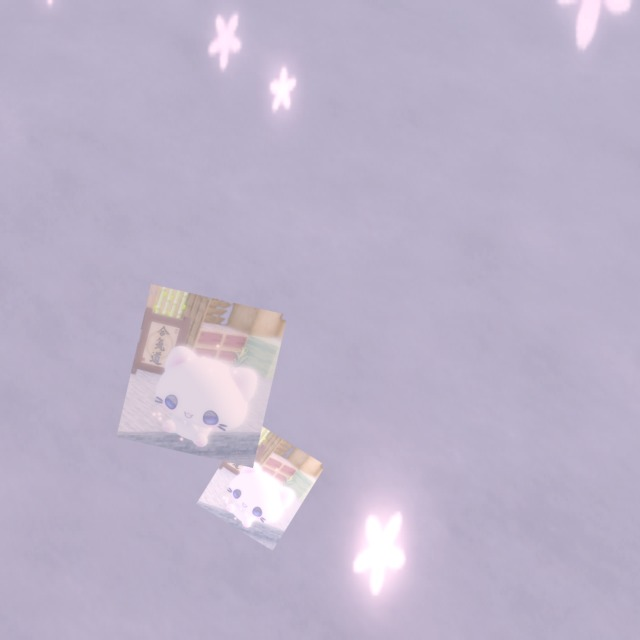urso_branco: (116, 284, 288, 468), (196, 418, 326, 551)
